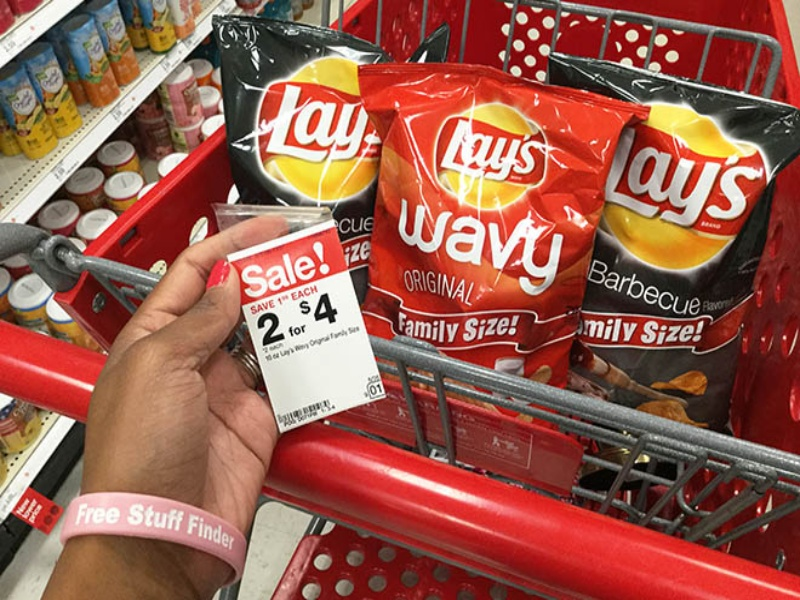lays-large: (366, 68, 647, 354), (574, 62, 796, 396), (207, 12, 370, 255)
